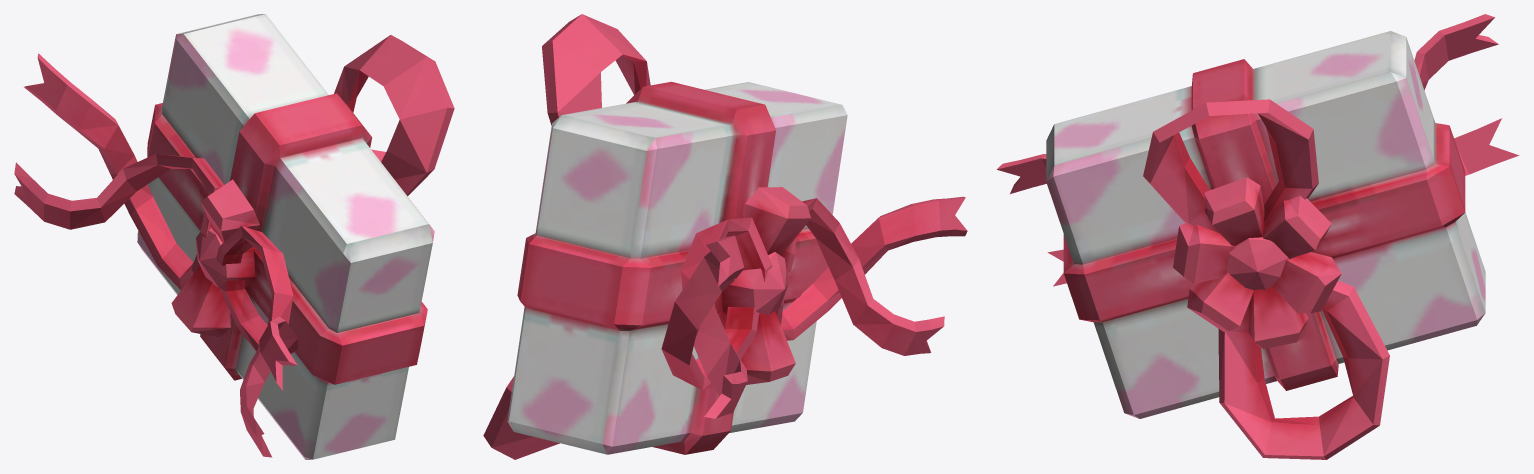
File: Sheep_bdWeapon.obj
3 renders of one model, left to right at view 1: azimuth 30°, elevation 25°; view 2: azimuth 150°, elevation 25°; view 3: azimuth 270°, elevation 25°, orthographic. The views are drawn at different scales.
Parts seen in each view (by area): view 1: Sheep_bdWeapon_tri; view 2: Sheep_bdWeapon_tri; view 3: Sheep_bdWeapon_tri.
Part boxes in pixels (x1,y1,x2,y2): Sheep_bdWeapon_tri: (14,14,454,459); Sheep_bdWeapon_tri: (483,14,967,459); Sheep_bdWeapon_tri: (996,14,1519,459).
Size of the model in its own units: 0.2781 by 0.3284 by 0.4343.
1 material, 1 textured.
